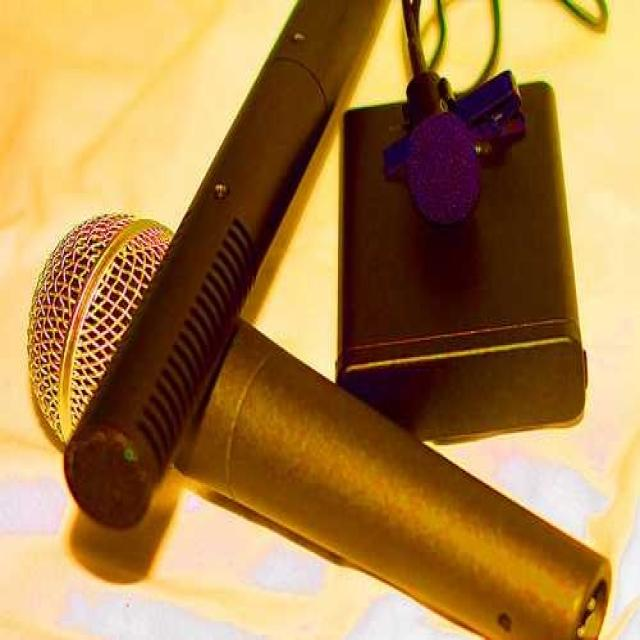microphone: (26, 214, 615, 634), (21, 6, 413, 454), (390, 0, 481, 215)
